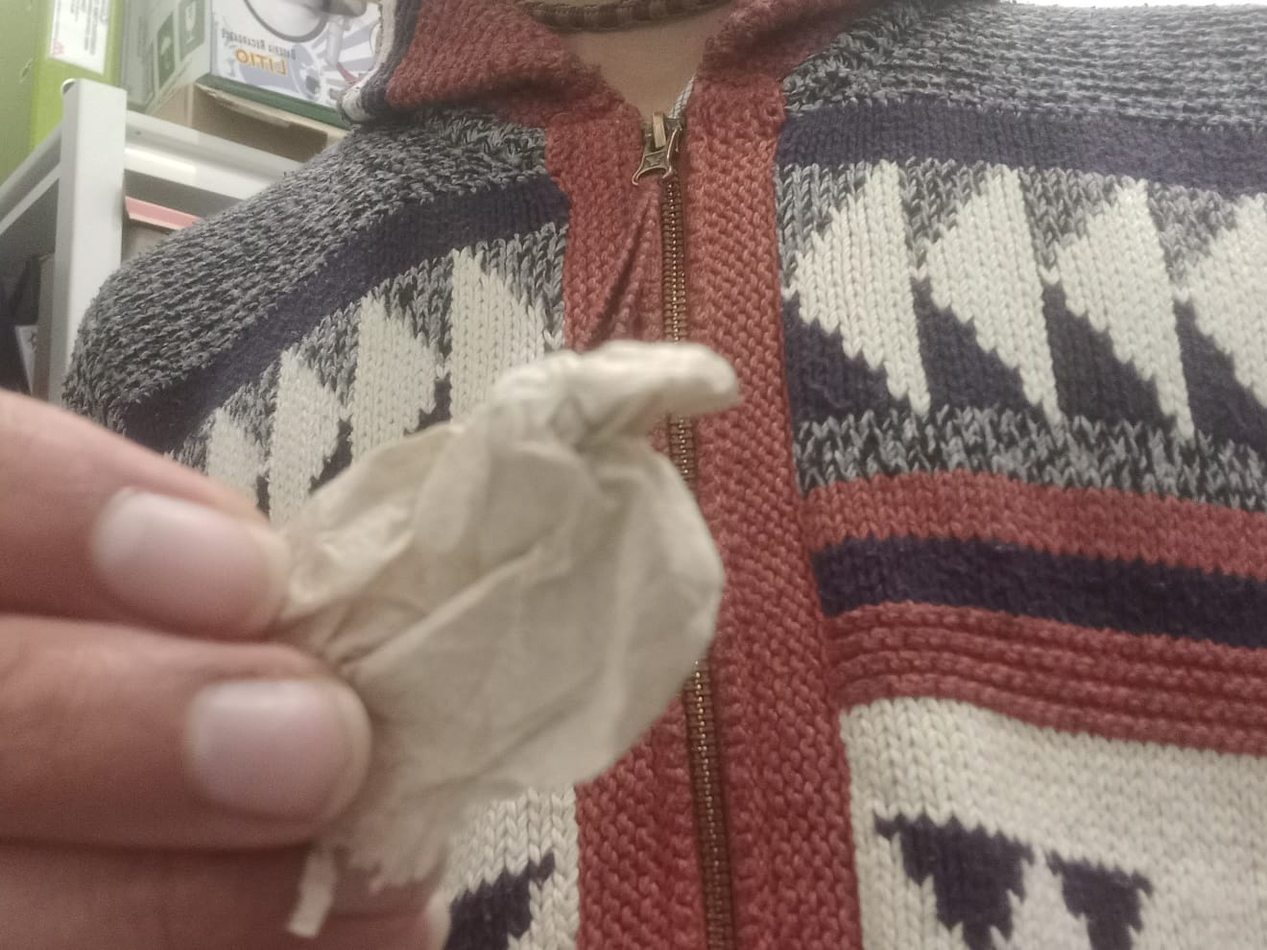Ordinario: (274, 339, 737, 886)
